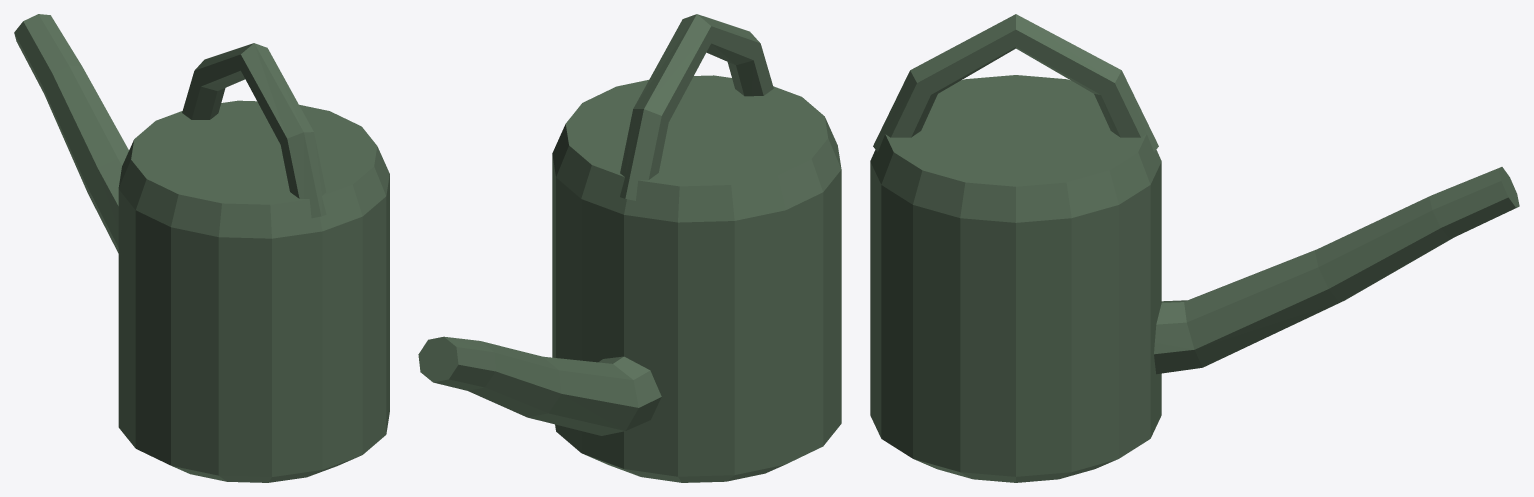
File: watering_can.glb
The picture shows the model from 3 angles, left to right: view 1: azimuth 30°, elevation 25°; view 2: azimuth 150°, elevation 25°; view 3: azimuth 270°, elevation 25°; orthographic projection. The views are drawn at different scales.
Visible parts, largest first — view 1: watering_can; view 2: watering_can; view 3: watering_can.
Boxes of the visible parts, bbox=[...] form: watering_can: bbox=[14, 14, 389, 482]; watering_can: bbox=[418, 14, 841, 482]; watering_can: bbox=[870, 14, 1519, 482].
Bounding box in the file's own units: 0.2603 × 0.4154 × 0.58.
